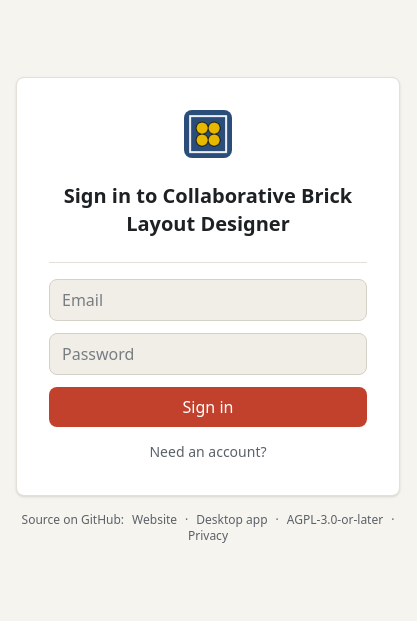
Test: sign-up and verification pages › sign-up shows "check your email" with the address
Click the button "Need an account?" at {"x": 208, "y": 452}, box [49,442,367,462]
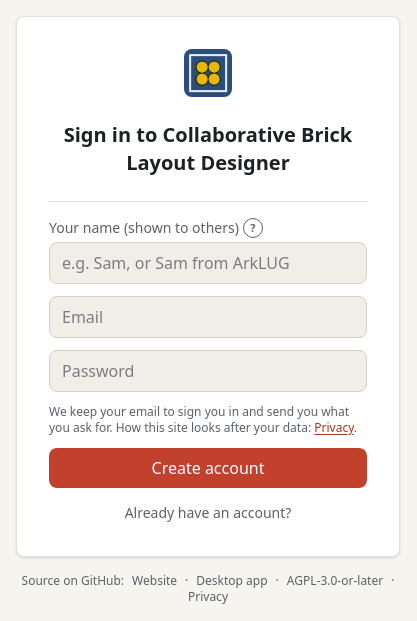
Type "Sam" into the field labelled "Your name (shown to others)" at {"x": 208, "y": 262}, box [49,242,367,284]
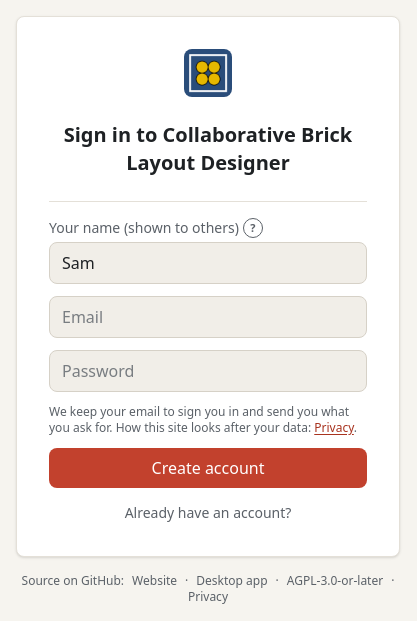
Type "sam@example.com" into the field labelled "Email" at {"x": 208, "y": 316}, box [49,296,367,338]
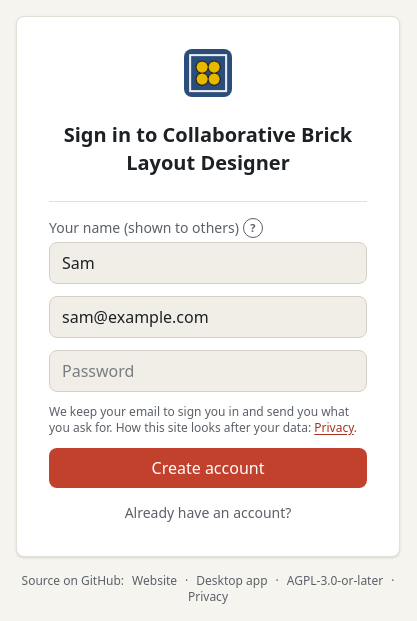
Type "sam-password-1" into the password field labelled "Password" at {"x": 208, "y": 370}, box [49,350,367,392]
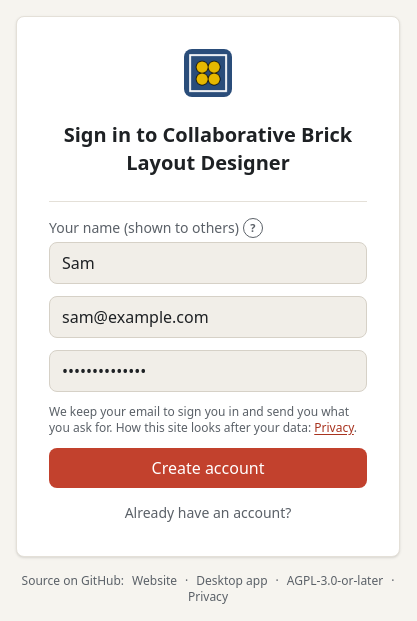
Click the button "Create account" at {"x": 208, "y": 468}, box [49,448,367,488]
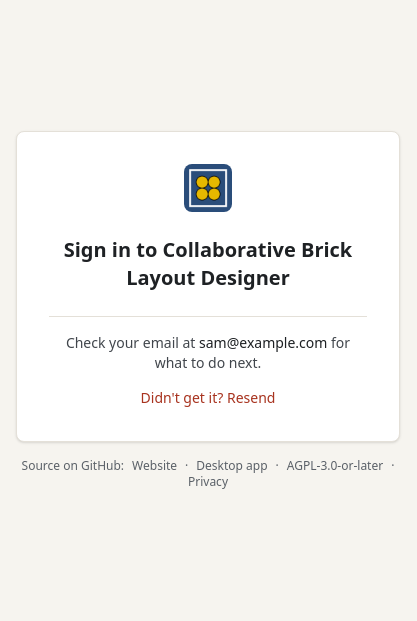
expect the text "Check your email at sam@example.com for what to do next." is shown: met, box [49,332,367,372]
expect the text "sam@example.com" is shown: met, box [199,332,327,352]
